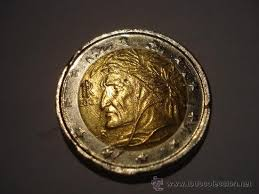eur002: (54, 27, 214, 178)
